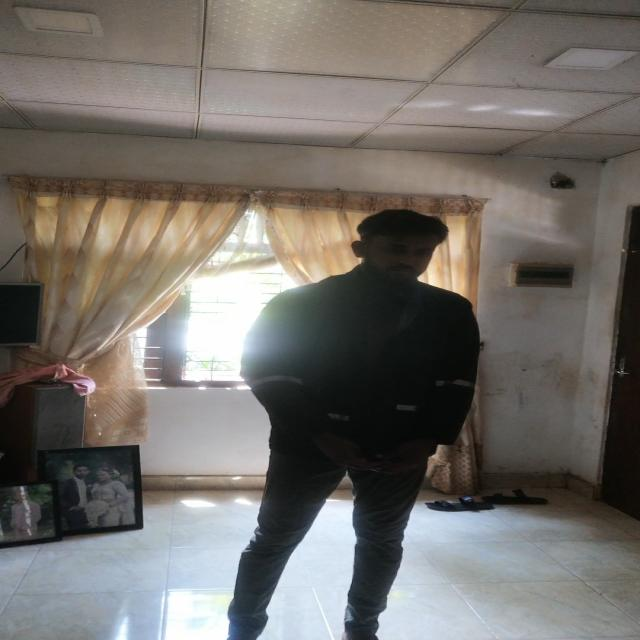Jacket_Wearer: (240, 269, 483, 471)
Person: (238, 204, 489, 640)
